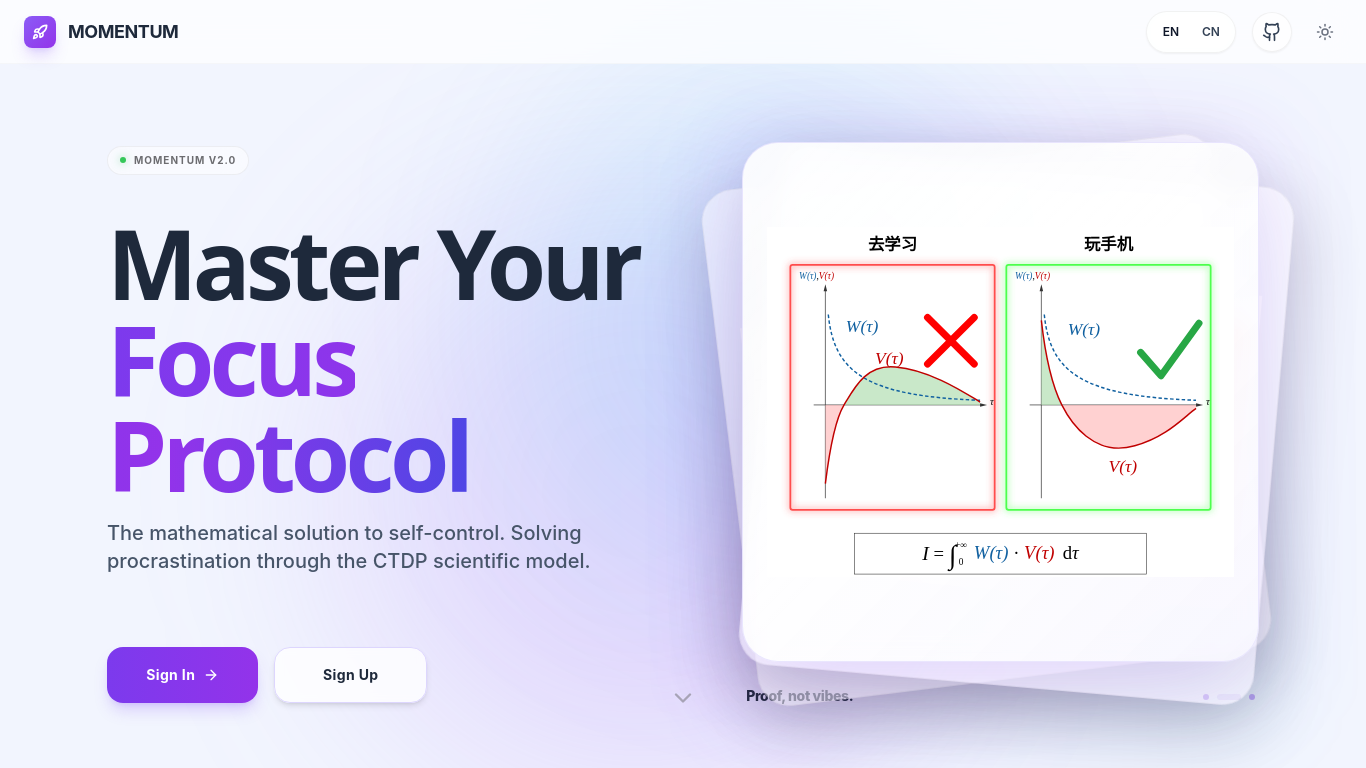
Test: IntroScreen language toggle › allows switching between EN and CN
Expected: the button "Sign In" is shown, [107,647,258,703]
Click the radio button labelled "CN" at (1211, 32), box [1191,16,1231,48]
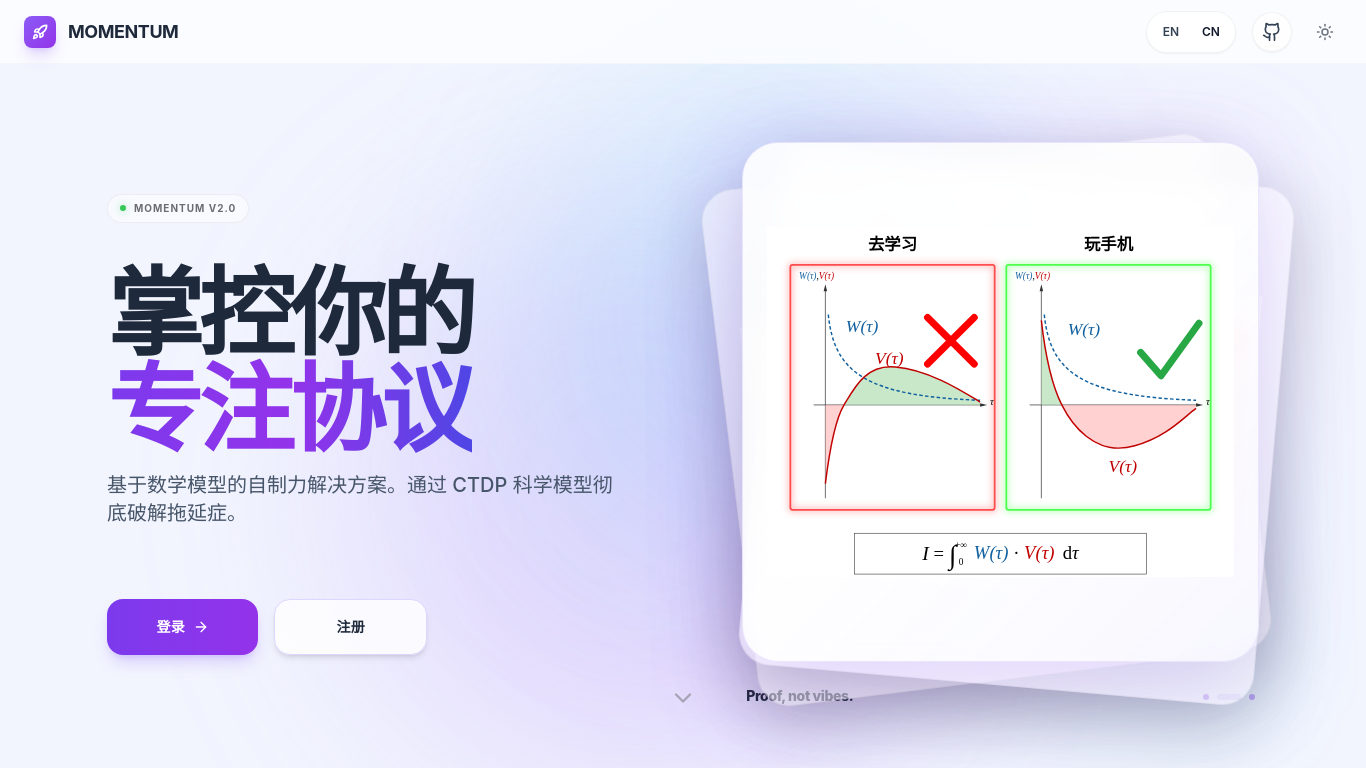
Result: the button "Sign In" is gone
Click the radio button labelled "EN" at (1171, 32), box [1151,16,1191,48]
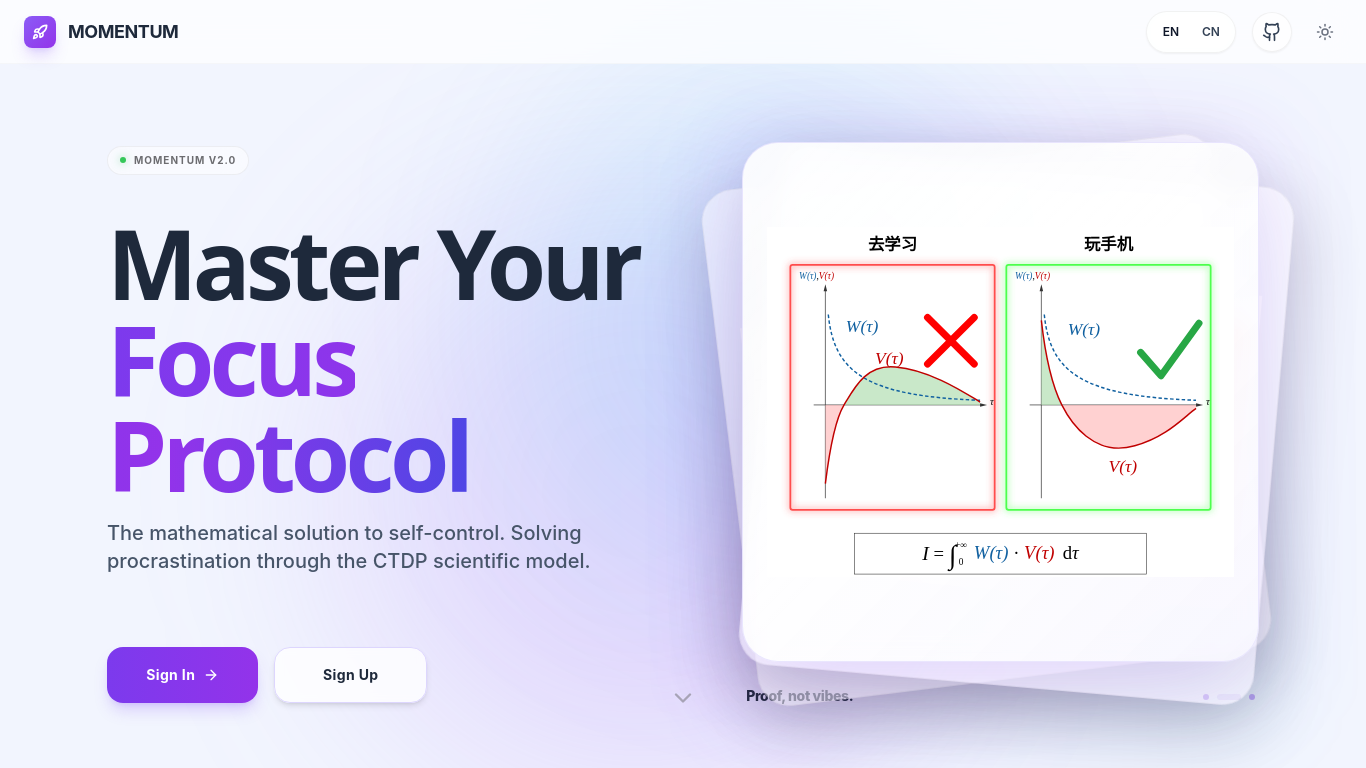
Result: the button "Sign In" is shown at [107,647,258,703]
